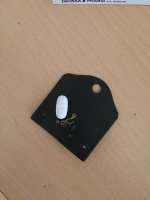Centik Buskopan: (55, 94, 69, 120)
